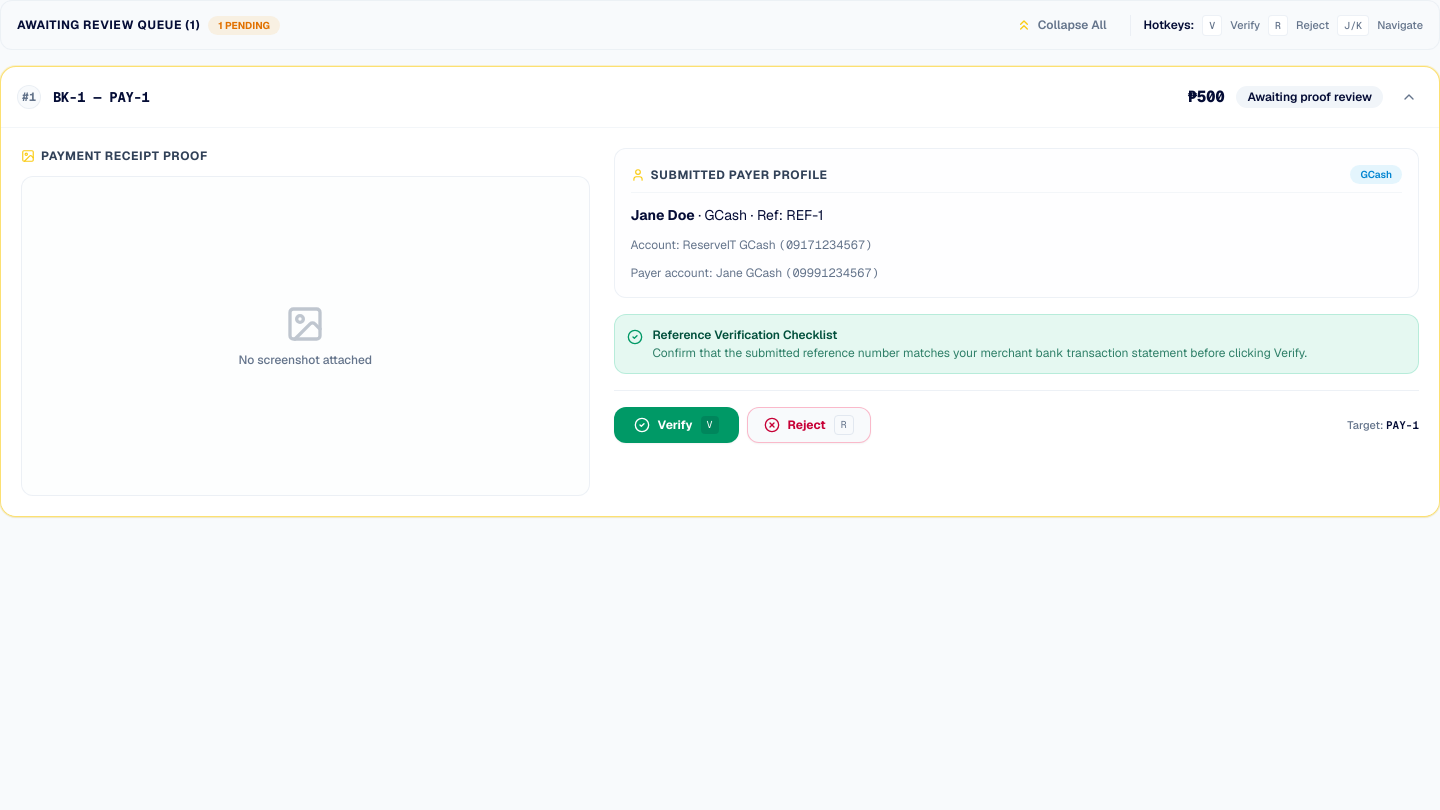
Scenario: NeedsReviewQueue › opens a reason dialog (not window.prompt) when Reject is clicked
Expected: the text "Jane Doe" is shown, [630,206,695,224]
Click the button "Reject R". click: x=809, y=425
box: [746,407,871,443]
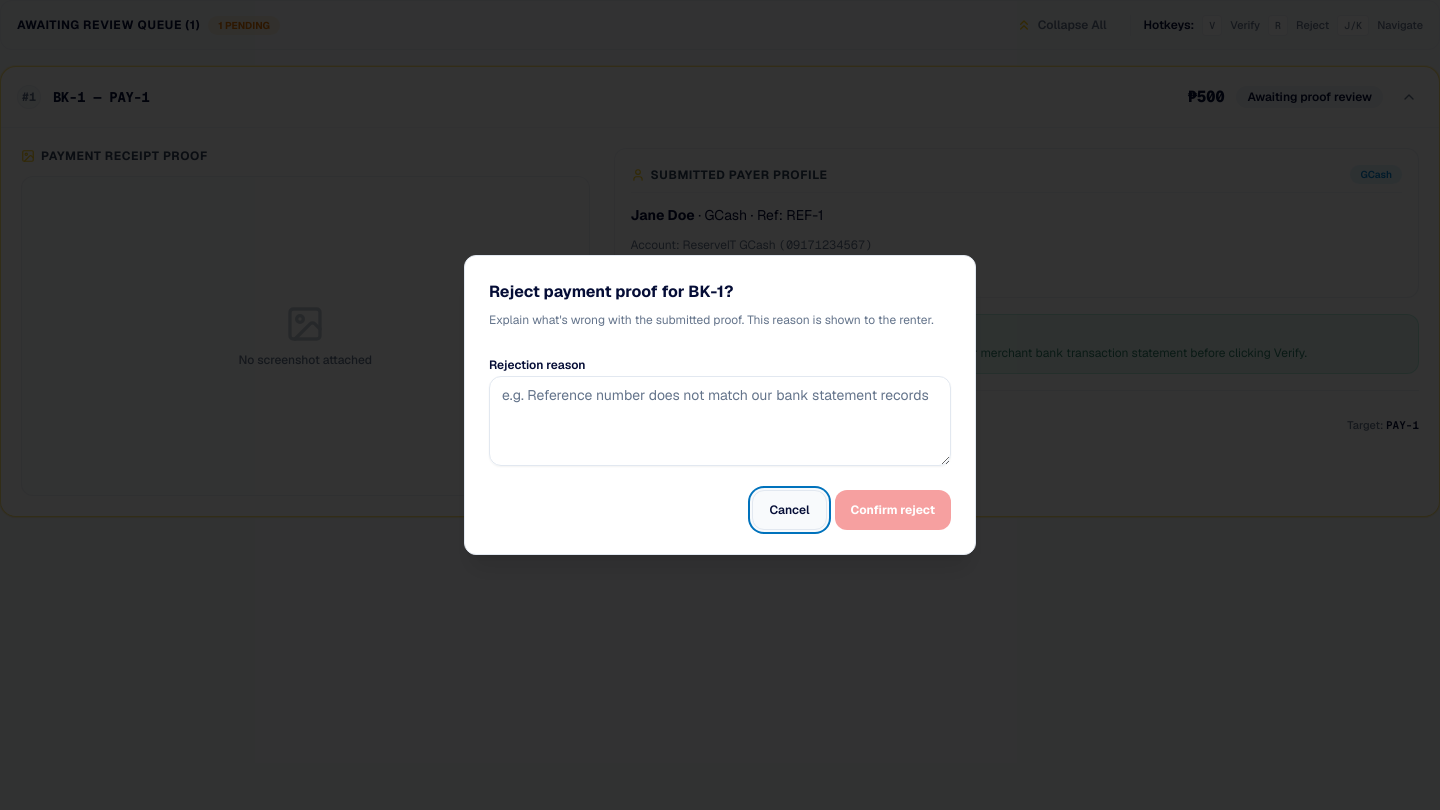
Now the text box labelled "Rejection reason" is shown, box [489,376,951,466]
